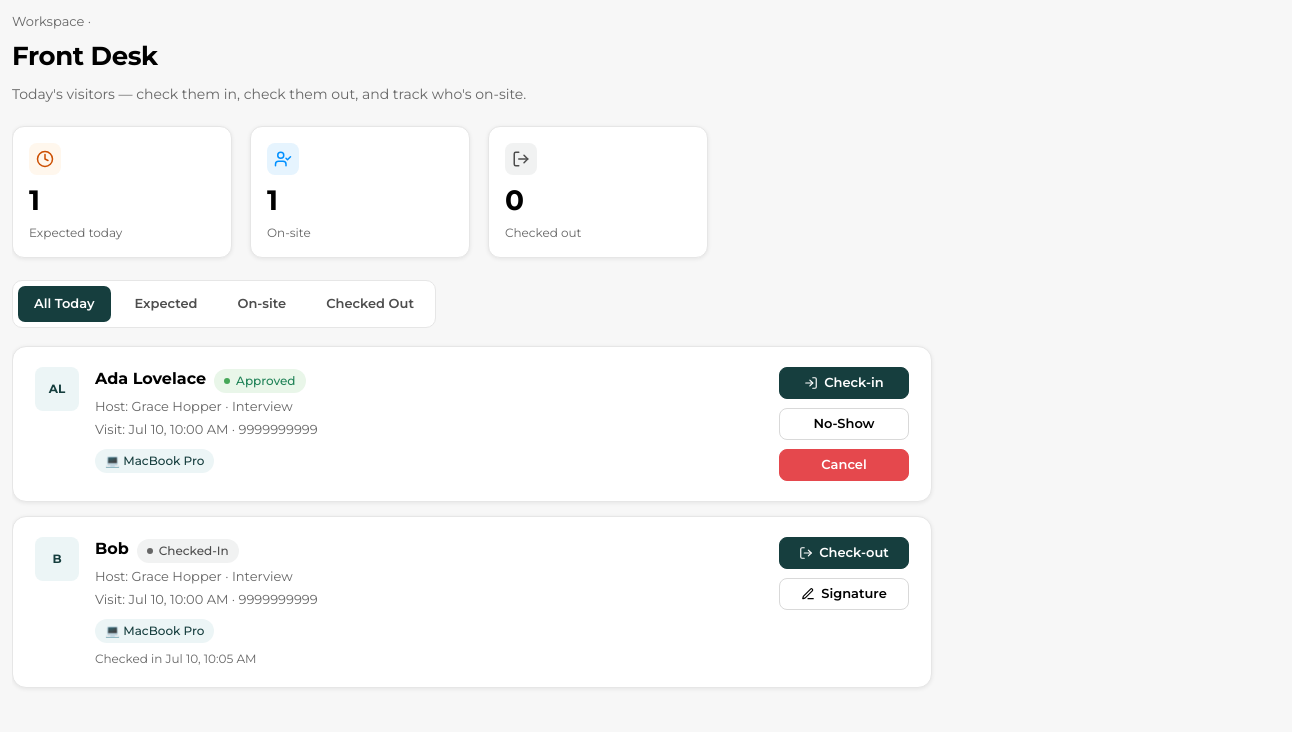
Scenario: tabs filter to expected/on-site/checked-out, and show the empty state per tab
Check: the text "Ada Lovelace" is shown, box [95,367,206,391]
Check: the text "Bob" is shown, box [95,537,129,561]
Click the button "Checked Out": point(370, 304) [310,286,430,322]
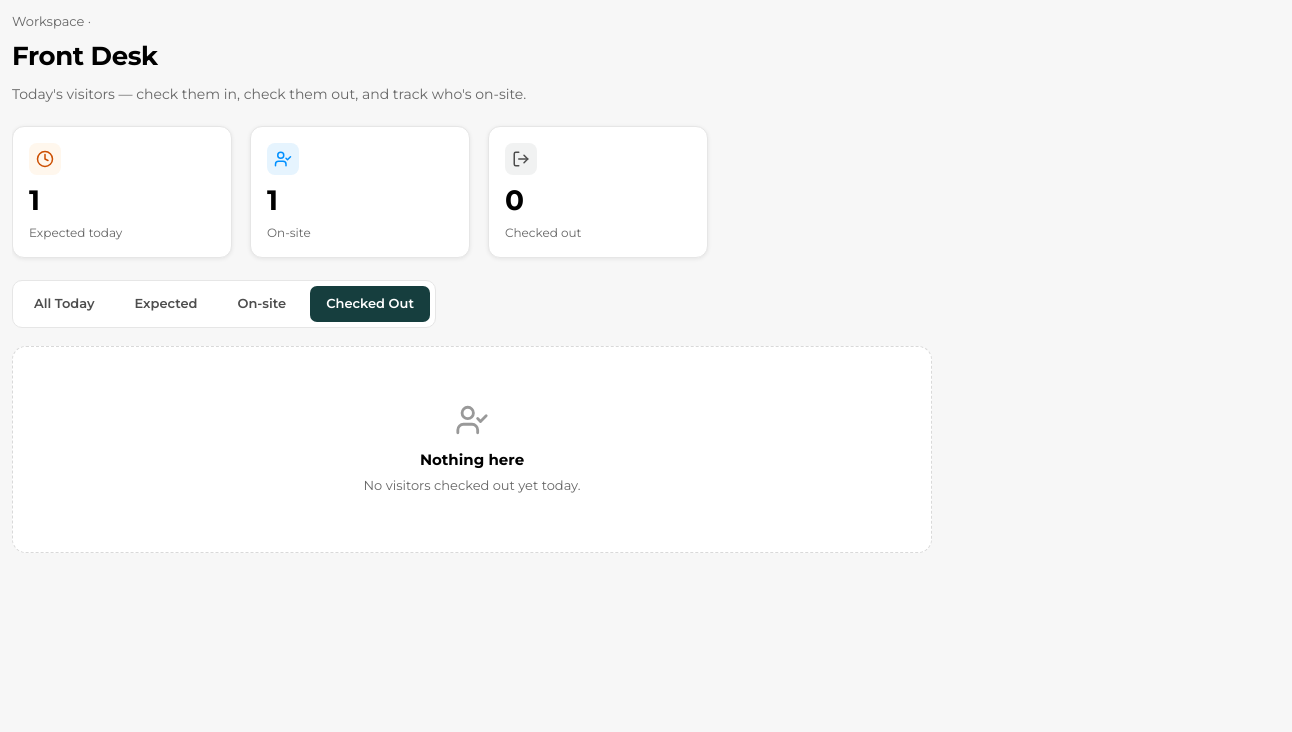
Check: the text "No visitors checked out yet today." is shown, box [364,477,580,493]
Check: the text "Ada Lovelace" is gone
